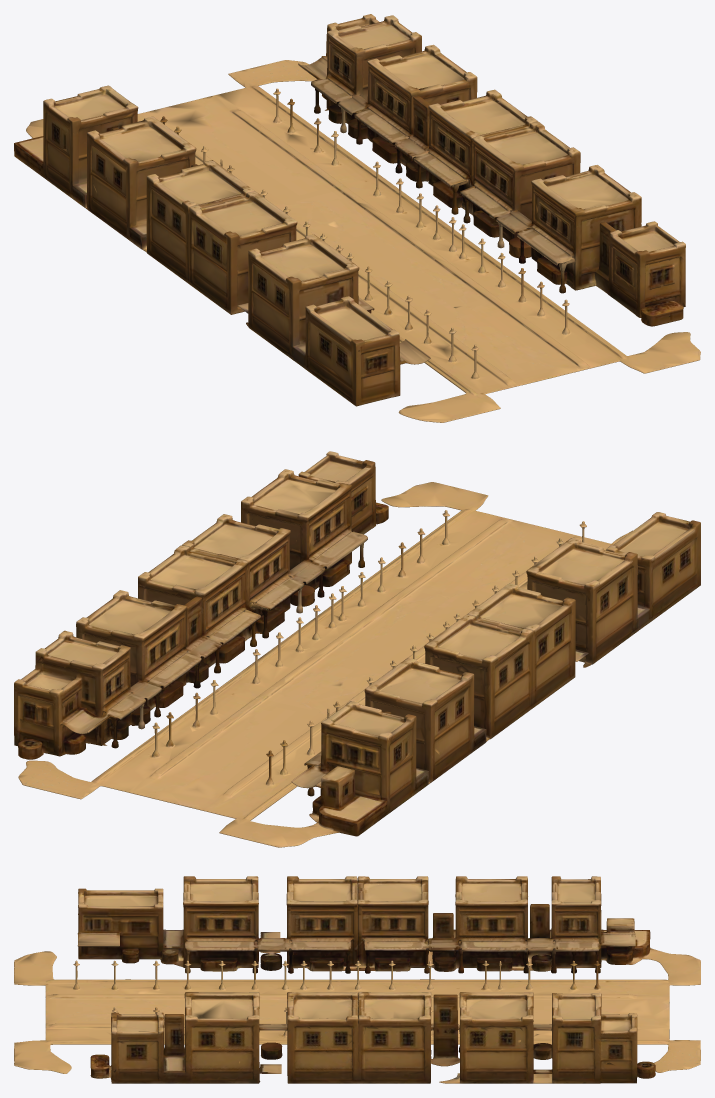
File: frontier-visual-m.glb
3 renders of one model, top to bottom at view 1: azimuth 30°, elevation 25°; view 2: azimuth 150°, elevation 25°; view 3: azimuth 270°, elevation 25°, orthographic. The views are drawn at different scales.
Visible parts, largest first — view 1: node_0; view 2: node_0; view 3: node_0.
Boxes of the visible parts, left/top/right/bottom form: node_0: left=14, top=14, right=700, bottom=422; node_0: left=14, top=451, right=700, bottom=847; node_0: left=14, top=876, right=700, bottom=1083.
Size of the model in its own units: 0.552 by 0.1183 by 1.12.
Materials: 1 (1 with a texture image).
